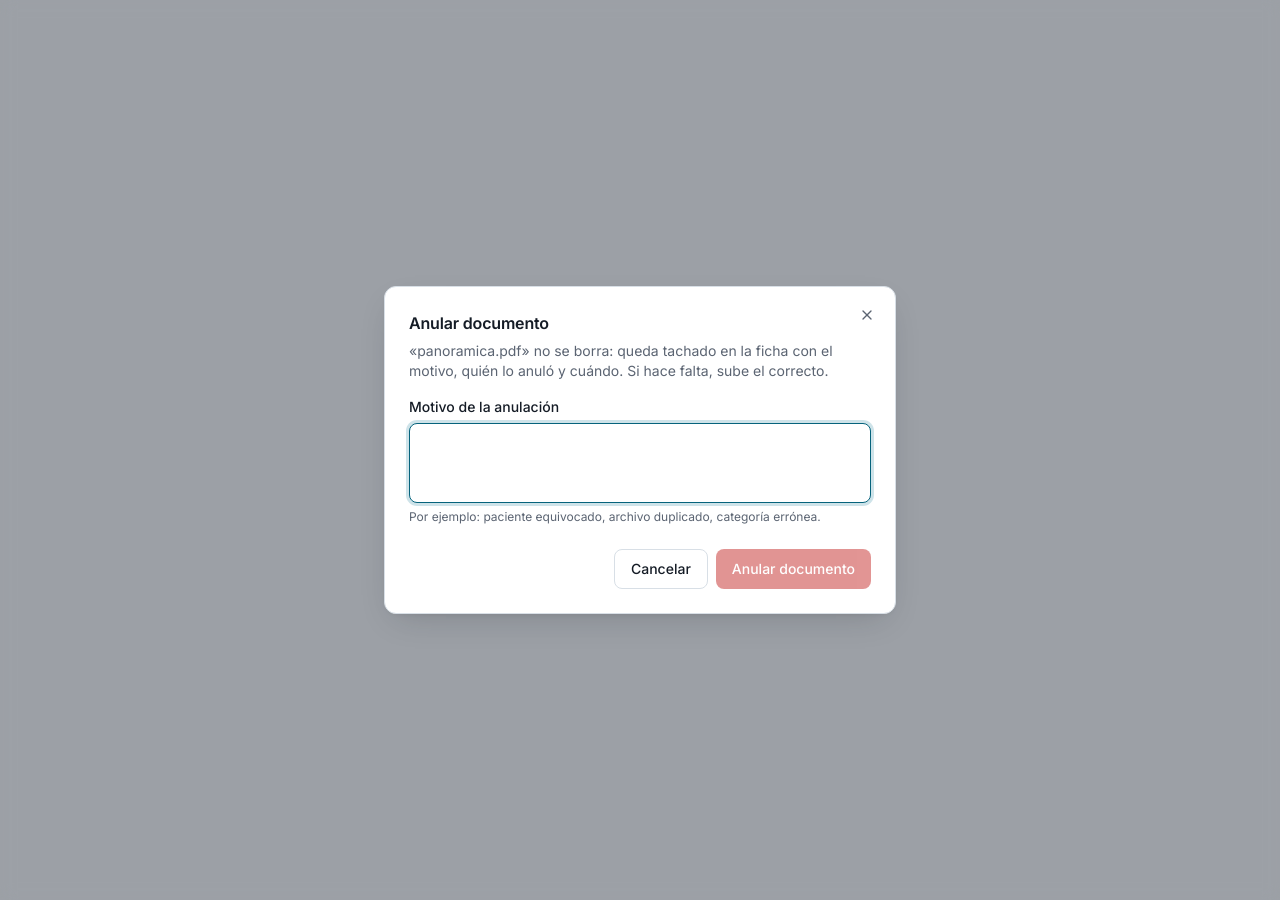
Test: VoidDocumentModal (DX-151) › un 403 de la API se muestra en el formulario
Type "Duplicado" into the text box labelled "Motivo de la anulación" at (640, 463), box [409,423,871,503]
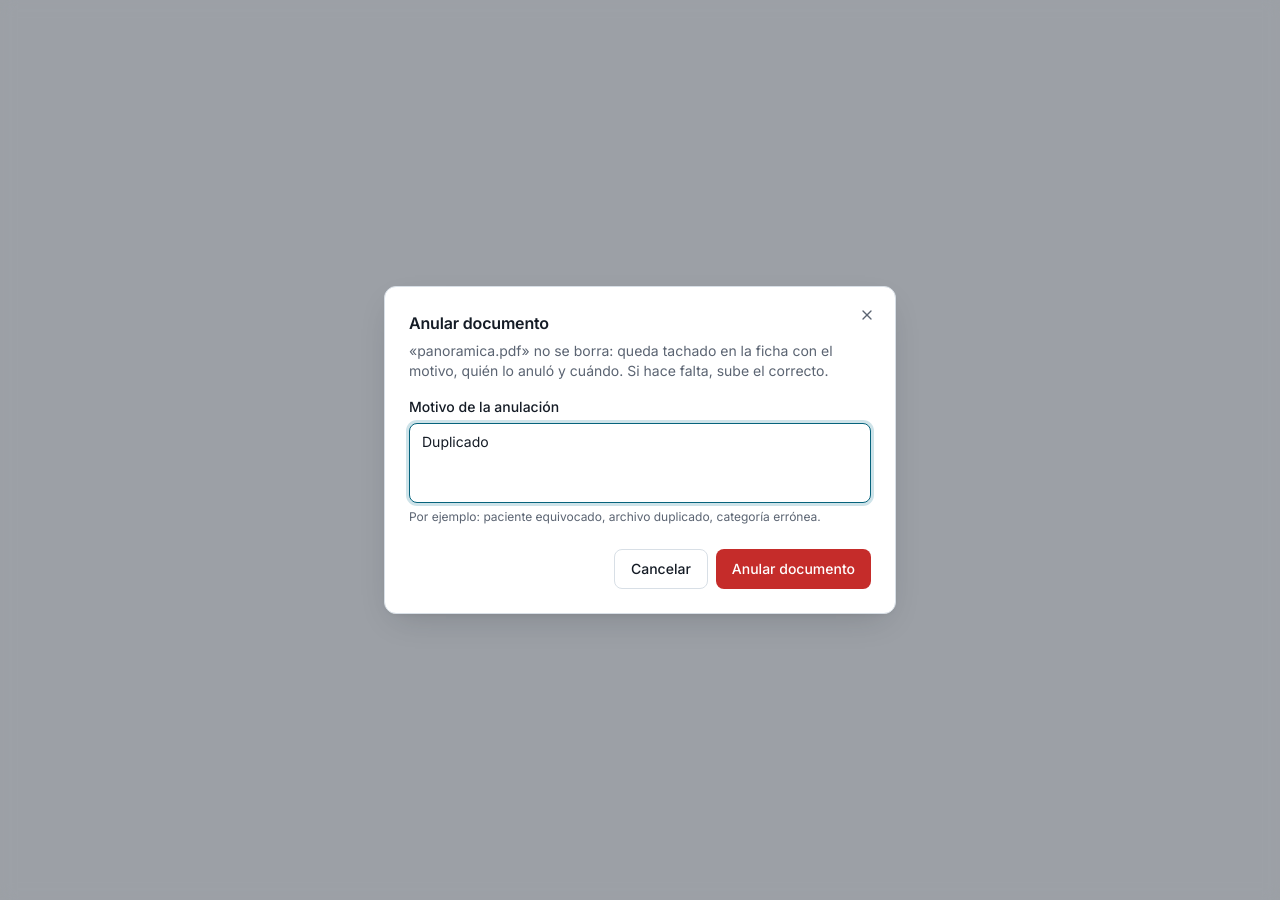
Click the button "Anular documento" at (793, 569), box [716,549,871,589]
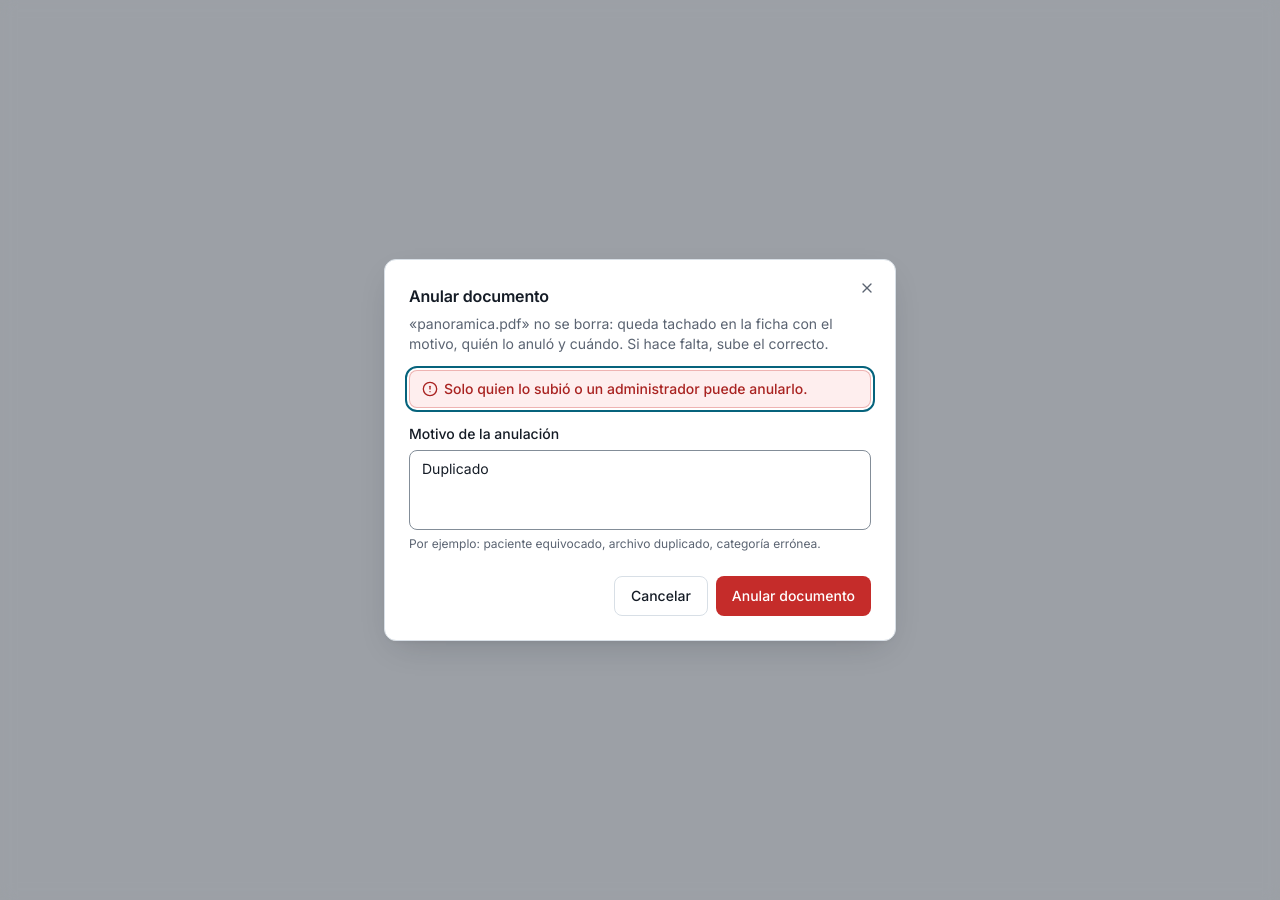
Expected: the message reads "Solo quien lo subió o un administrador puede anularlo.", [444,380,807,397]
